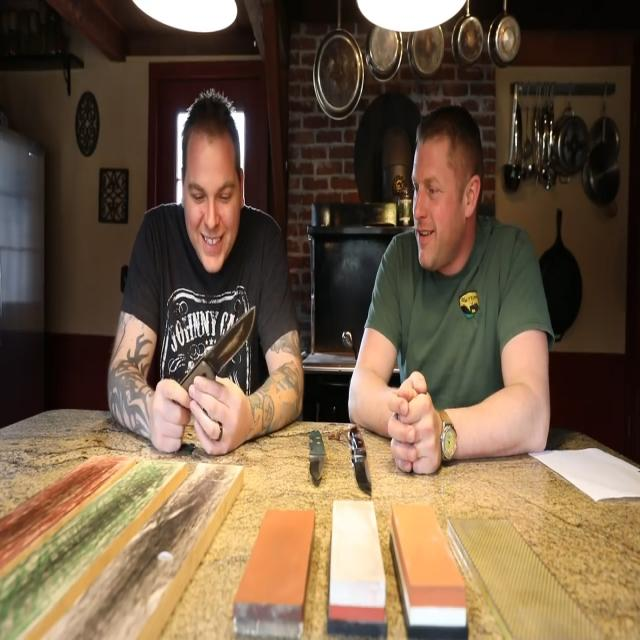knife: (187, 310, 261, 386), (346, 422, 374, 502), (307, 424, 325, 495)
